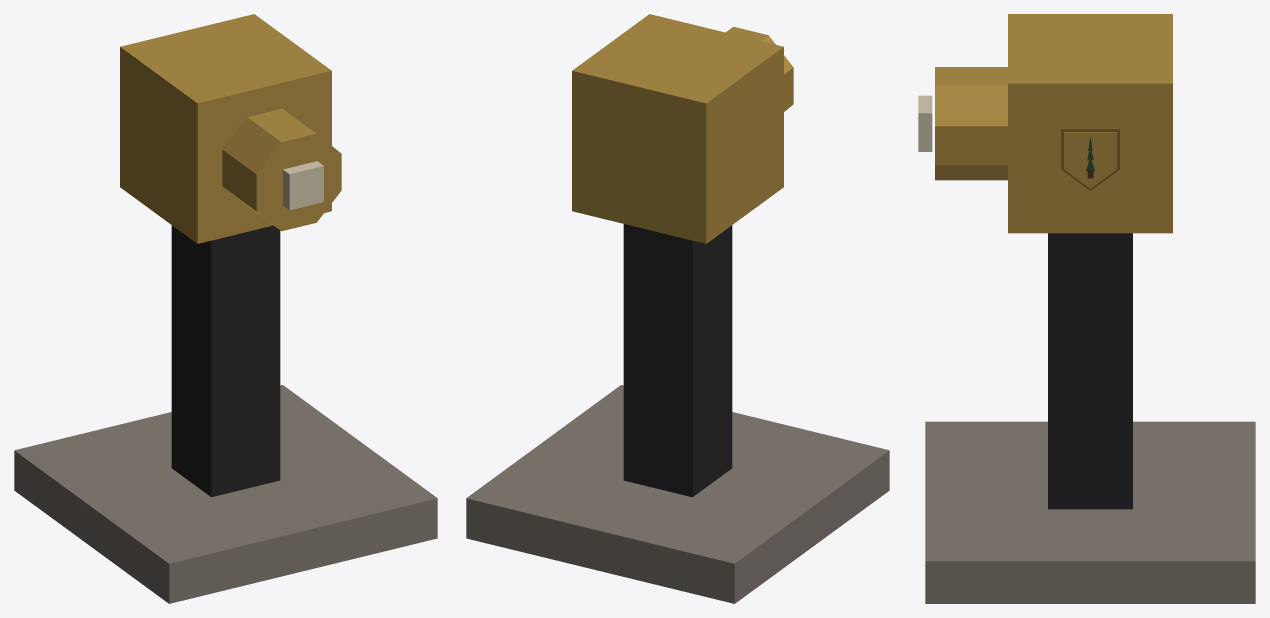
File: LaserEmitter.glb
3 renders of one model, left to right at view 1: azimuth 30°, elevation 25°; view 2: azimuth 150°, elevation 25°; view 3: azimuth 270°, elevation 25°, orthographic. The views are drawn at different scales.
Parts seen in each view (by area): view 1: Body; view 2: Body; view 3: Body.
Boxes of the visible parts, <box> form: Body: <box>14,14,437,603</box>; Body: <box>466,14,889,603</box>; Body: <box>918,14,1255,603</box>.
Bounding box in the file's own units: 1.4 × 2.27 × 1.43.
